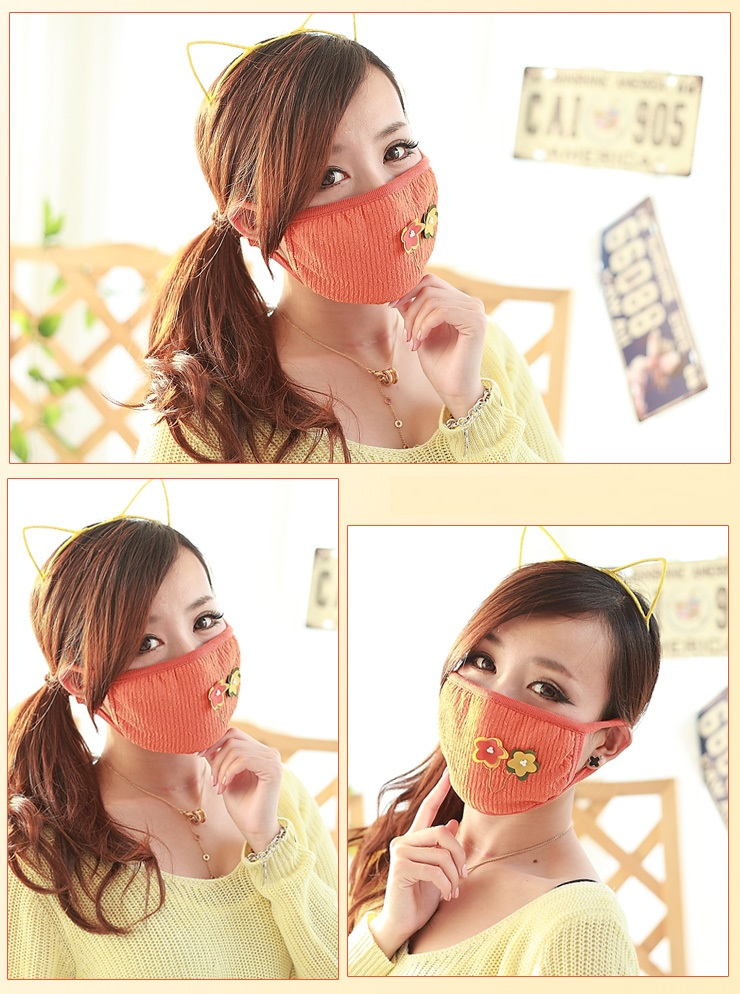face_mask: (280, 67, 436, 299), (445, 591, 602, 818), (104, 546, 239, 759)
